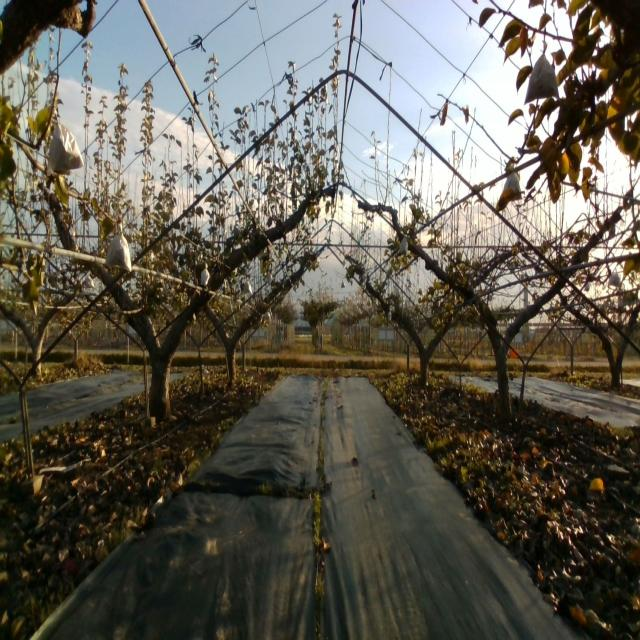pearbags: (524, 40, 560, 104), (48, 115, 85, 175), (105, 223, 132, 275), (502, 173, 521, 200), (398, 236, 408, 257)
